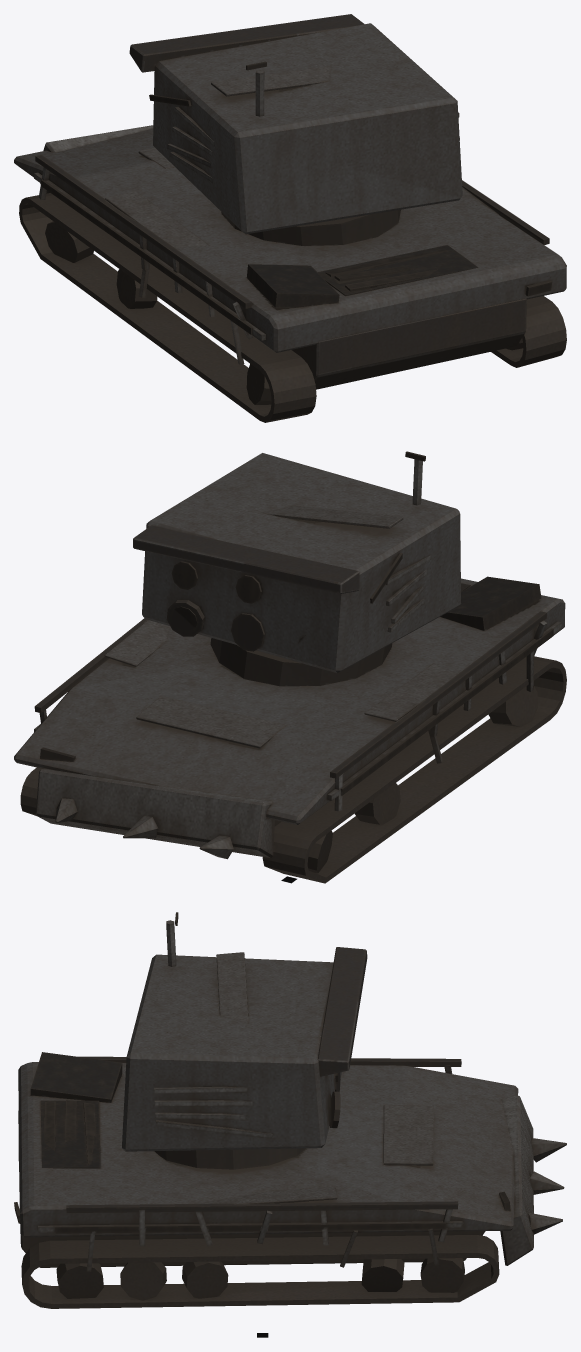
The model's file is chs_hellfire_wreck.fbx.
3 views of the same model, one above another, from view 1: azimuth 30°, elevation 25°; view 2: azimuth 150°, elevation 25°; view 3: azimuth 270°, elevation 25° (orthographic). The views are drawn at different scales.
Parts seen in each view (by area): view 1: base_bar, turret_bar, trackL_bar, trackR_bar; view 2: base_bar, turret_bar, trackL_bar, trackR_bar; view 3: base_bar, turret_bar, trackR_bar.
Boxes of the visible parts, left/top/right/bottom form: base_bar: left=14, top=125, right=566, bottom=389; turret_bar: left=129, top=14, right=462, bottom=245; trackL_bar: left=19, top=193, right=316, bottom=422; trackR_bar: left=491, top=296, right=566, bottom=367; base_bar: left=14, top=576, right=565, bottom=859; turret_bar: left=133, top=451, right=461, bottom=686; trackL_bar: left=262, top=656, right=566, bottom=883; trackR_bar: left=20, top=767, right=42, bottom=815; base_bar: left=14, top=1052, right=566, bottom=1271; turret_bar: left=122, top=912, right=367, bottom=1169; trackR_bar: left=21, top=1235, right=499, bottom=1308.
Size of the model in its own units: 606 by 746 by 978.
Materials: 2 (2 with a texture image).
